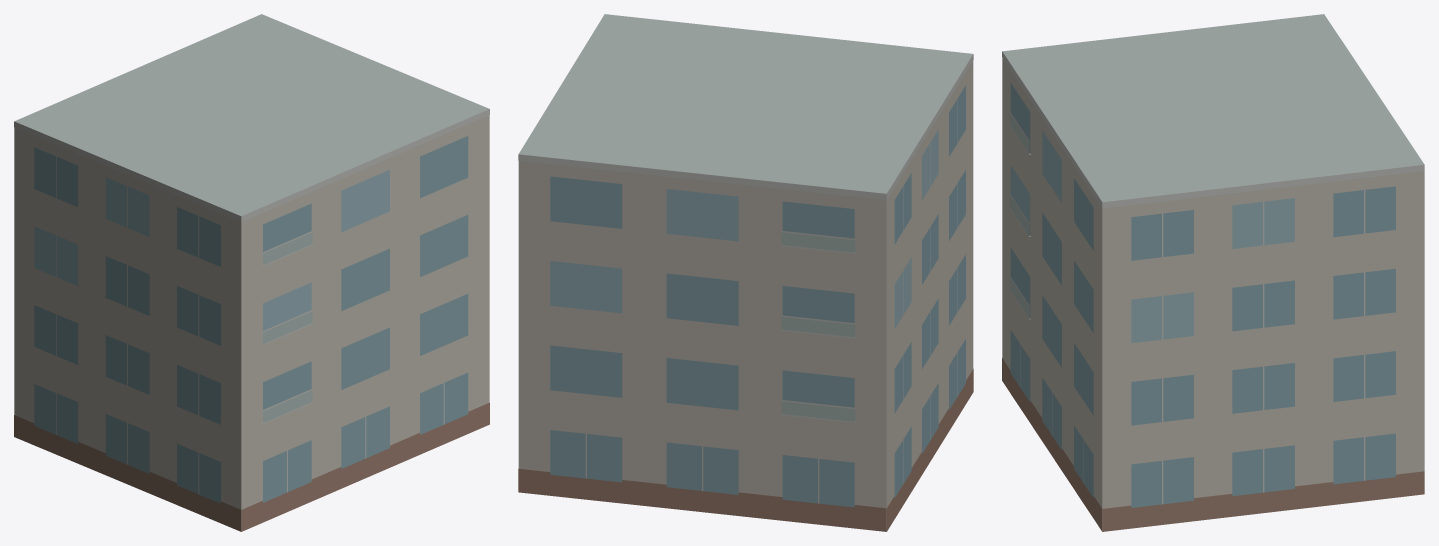
File: survey-upis-33035504.glb
The picture shows the model from 3 angles, left to right: view 1: azimuth 30°, elevation 25°; view 2: azimuth 150°, elevation 25°; view 3: azimuth 270°, elevation 25°; orthographic projection. The views are drawn at different scales.
Parts seen in each view (by area): view 1: survey-upis-33035504.tmp; view 2: survey-upis-33035504.tmp; view 3: survey-upis-33035504.tmp.
Boxes of the visible parts, x1,y1,x2,y2 form: survey-upis-33035504.tmp: (14,14,489,531); survey-upis-33035504.tmp: (518,14,973,531); survey-upis-33035504.tmp: (1002,14,1424,531).
Bounding box in the file's own units: 15.91 × 12.98 × 15.09.
